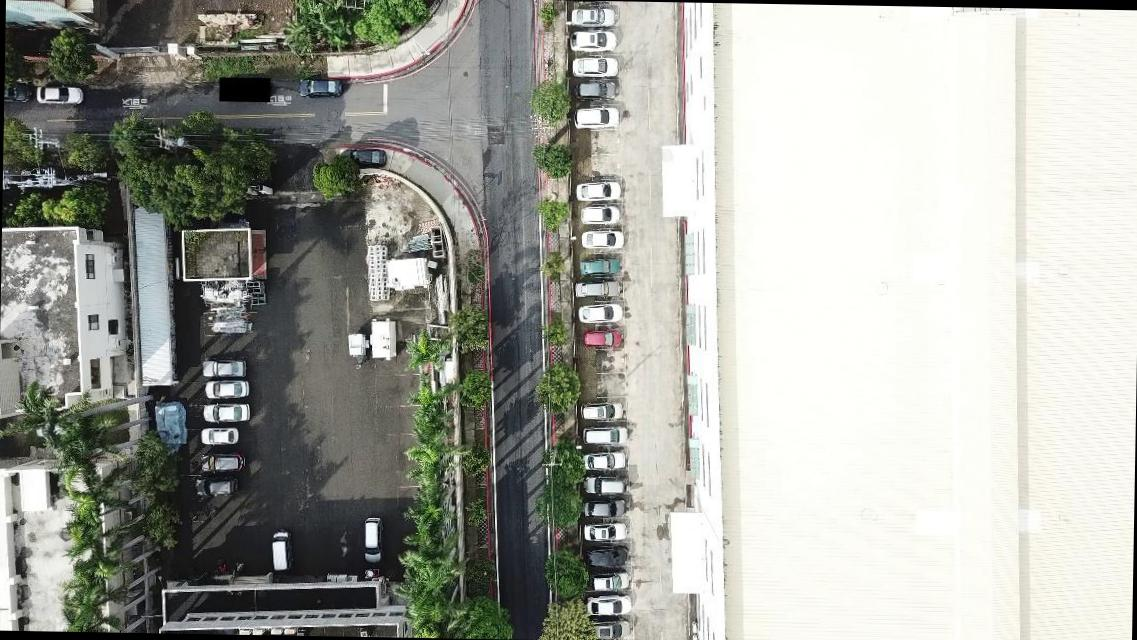vehicle: (571, 104, 620, 132), (566, 29, 618, 54), (580, 225, 624, 252), (571, 78, 619, 102), (193, 474, 237, 500), (199, 450, 246, 474), (575, 176, 620, 201), (570, 55, 618, 78), (34, 82, 84, 104), (586, 592, 631, 616), (576, 301, 621, 325), (203, 401, 249, 424), (570, 4, 616, 27), (578, 253, 622, 277), (586, 618, 633, 640), (583, 544, 630, 566), (584, 570, 628, 593), (572, 279, 622, 299), (298, 76, 342, 98), (270, 529, 292, 573), (579, 203, 621, 226), (584, 520, 626, 543), (581, 329, 624, 351), (583, 450, 626, 472), (362, 516, 382, 562), (201, 358, 247, 378), (582, 425, 628, 445), (204, 380, 248, 400), (347, 146, 390, 166), (581, 476, 628, 494), (580, 401, 622, 421), (584, 499, 626, 518), (199, 428, 238, 448), (5, 81, 34, 105)
